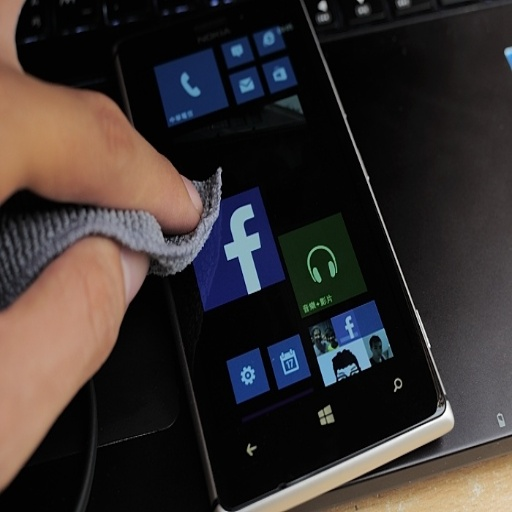hand: (0, 0, 203, 493)
